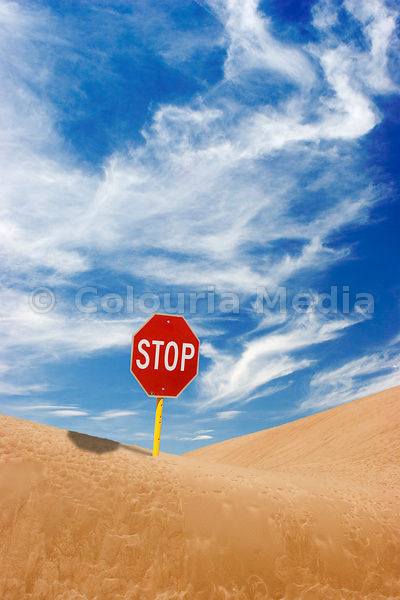stop: (128, 306, 203, 399)
